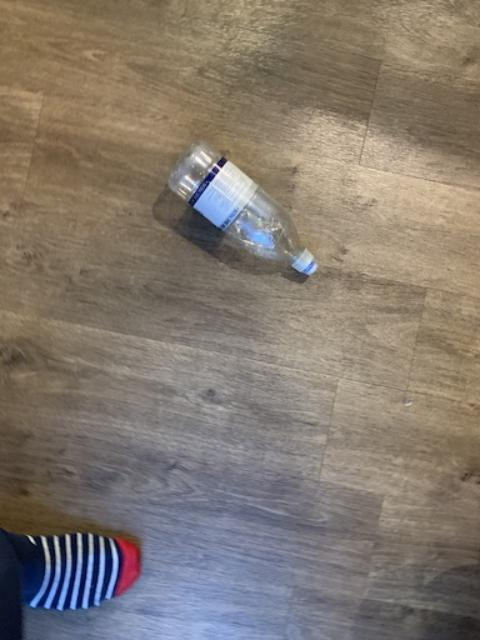plastic: (166, 140, 315, 272)
